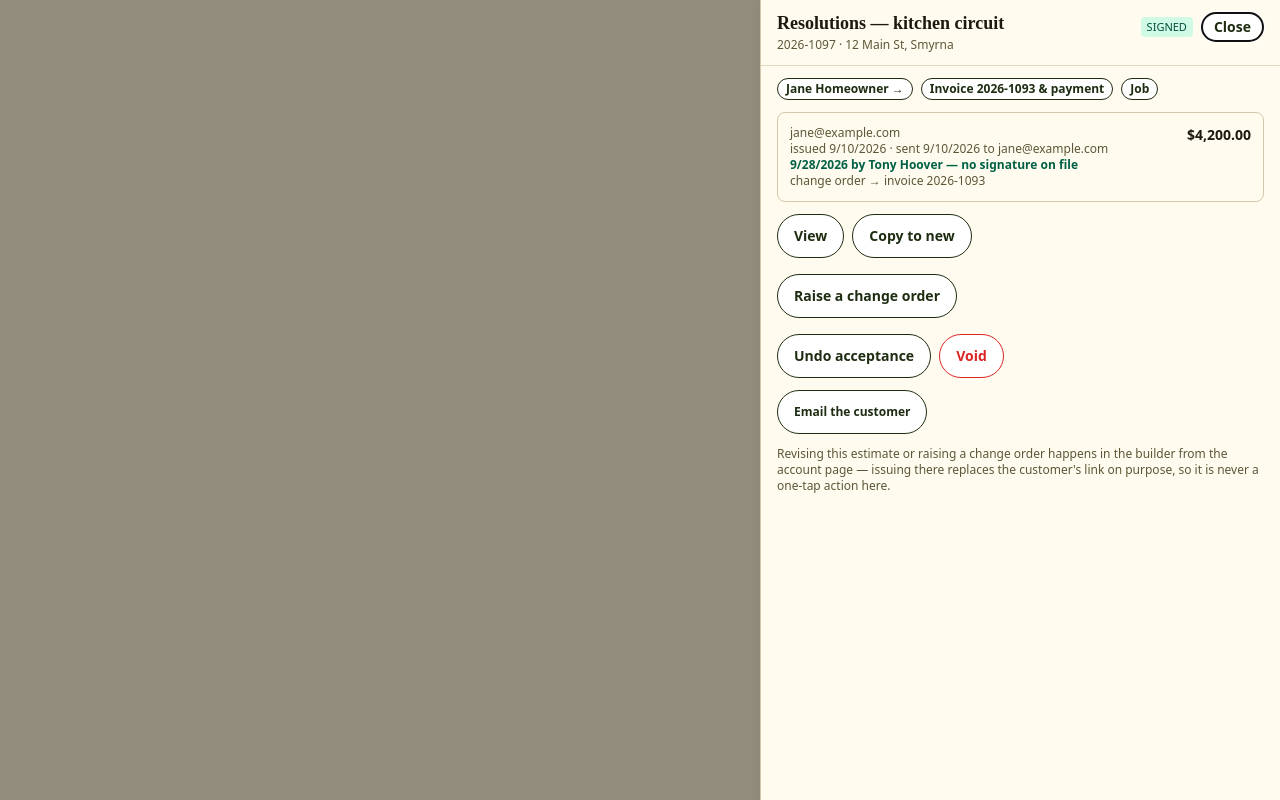
Test: EstimateDrawer › points a signed change order's invoice door at the ROOT invoice, named
This screenshot has width=1280, height=800.
// Named after the invoice it belongs to, so the operator knows where they are going.
Step 1. Click the button "Invoice 2026-1093 & payment" → (1017,88), box [921, 78, 1113, 100]
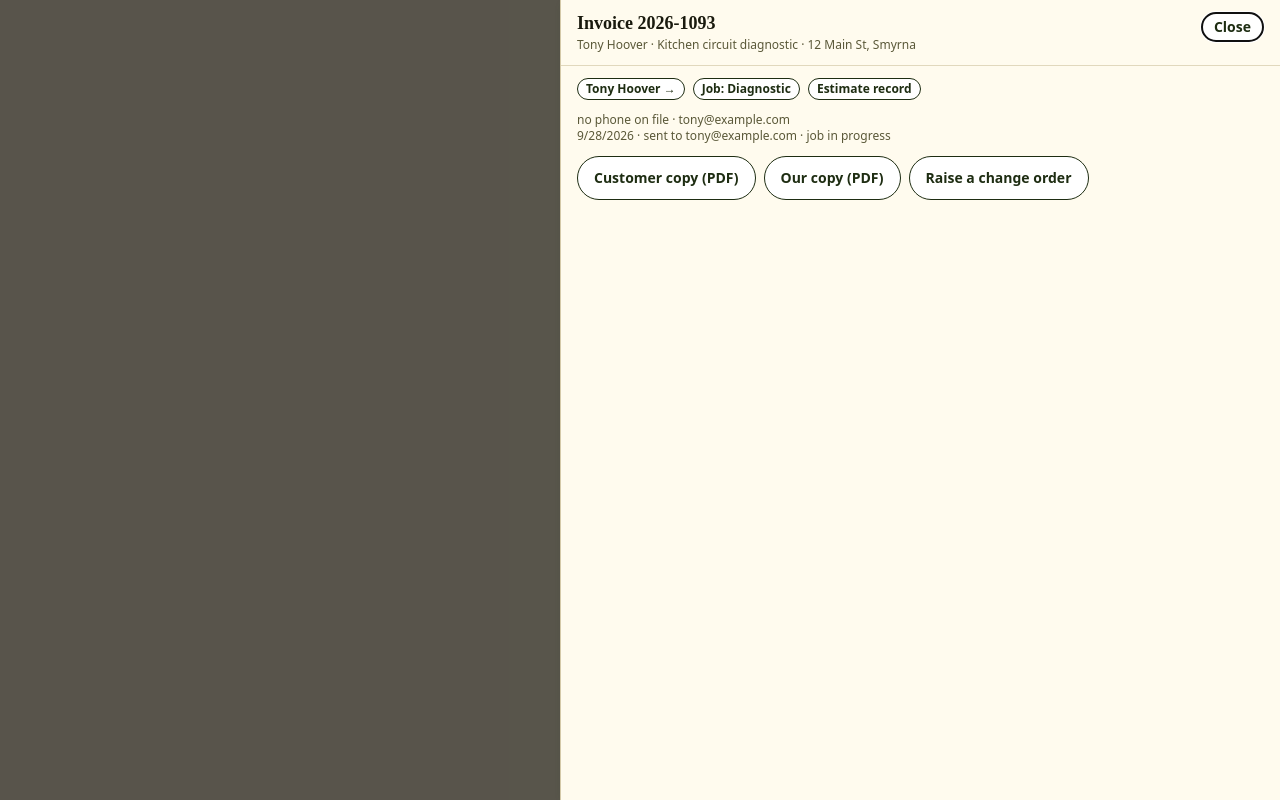
Check: the dialog "Invoice 2026-1093" is shown, box [560, 0, 1279, 799]
